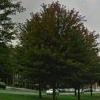Tree: (13, 2, 95, 92)
